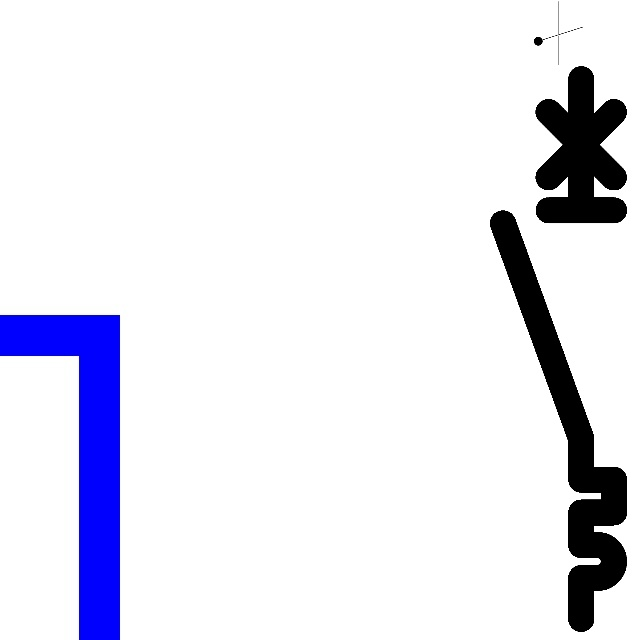interruptor_termomagnetico: (489, 65, 628, 633)
